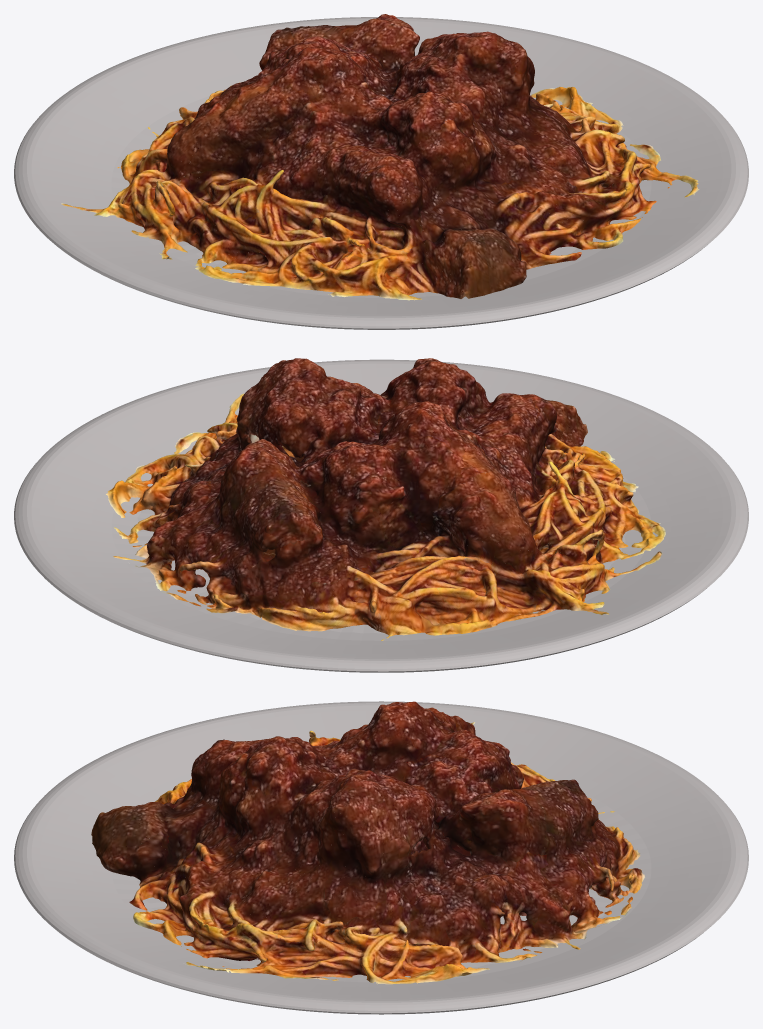
File: massa-almondegas-linguica-mobile.glb
3 views of the same model, one above another, from view 1: azimuth 30°, elevation 25°; view 2: azimuth 150°, elevation 25°; view 3: azimuth 270°, elevation 25° (orthographic).
Parts seen in each view (by area): view 1: Object_4, Object_7, Object_5; view 2: Object_4, Object_7, Object_5; view 3: Object_7, Object_4, Object_5.
Boxes of the visible parts, box(x1,y1,x2,y2) form: Object_4: box(148, 14, 626, 293); Object_7: box(14, 17, 748, 329); Object_5: box(61, 16, 699, 300); Object_4: box(114, 358, 633, 640); Object_7: box(14, 359, 748, 672); Object_5: box(106, 384, 665, 637); Object_7: box(14, 701, 748, 1014); Object_4: box(129, 701, 644, 961); Object_5: box(91, 722, 631, 984).
Size of the model in its own units: 0.26 by 0.0641 by 0.26.
2 materials, 1 textured.
